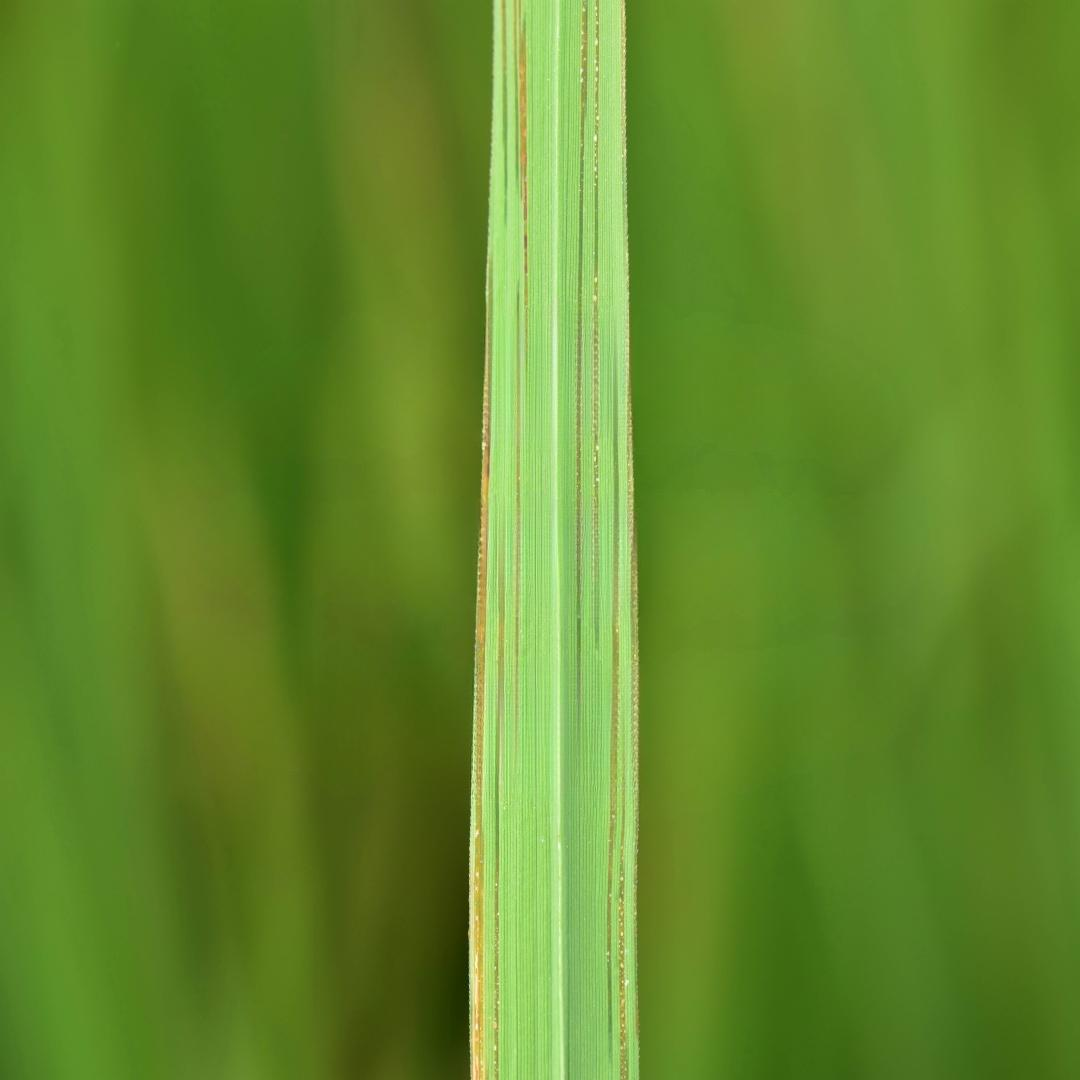BLS: (471, 252, 493, 1079), (576, 1, 589, 723), (607, 396, 620, 1077), (628, 380, 640, 1040), (494, 499, 505, 1079), (519, 0, 528, 410), (593, 1, 599, 568), (619, 748, 629, 1078), (515, 286, 521, 757), (501, 0, 508, 233), (513, 0, 519, 205)
LEAF: (469, 0, 640, 1079)
